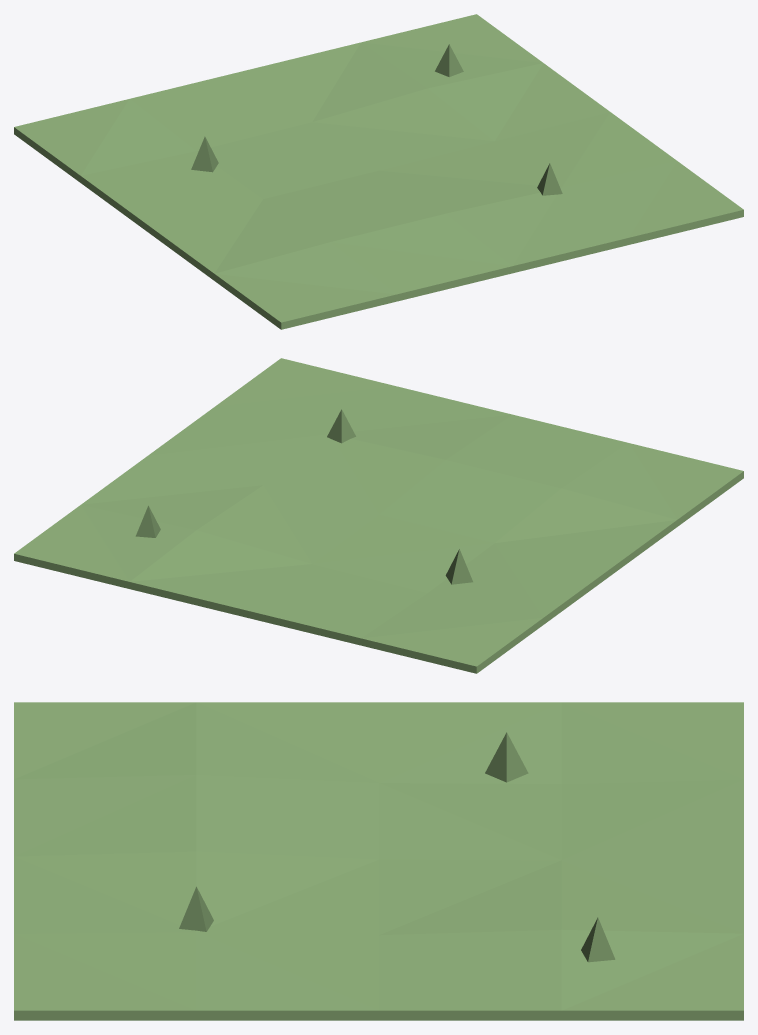
File: lantai_siaga_v001.glb
3 renders of one model, top to bottom at view 1: azimuth 30°, elevation 25°; view 2: azimuth 150°, elevation 25°; view 3: azimuth 270°, elevation 25°, orthographic. The views are drawn at different scales.
Parts seen in each view (by area): view 1: lantai_siaga; view 2: lantai_siaga; view 3: lantai_siaga.
Part boxes in pixels (x1,y1,x2,y2): lantai_siaga: (14, 14, 743, 329); lantai_siaga: (14, 358, 743, 673); lantai_siaga: (14, 702, 743, 1020).
Bounding box in the file's own units: 4 × 0.2998 × 4.
